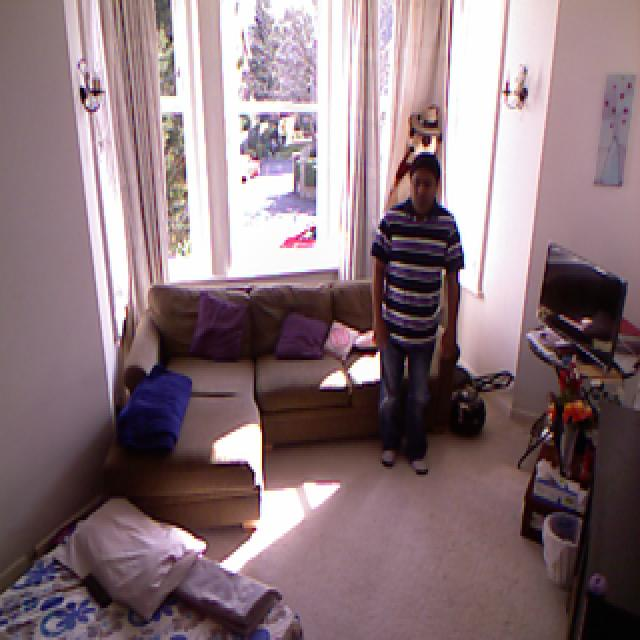standing: (365, 152, 466, 482)
